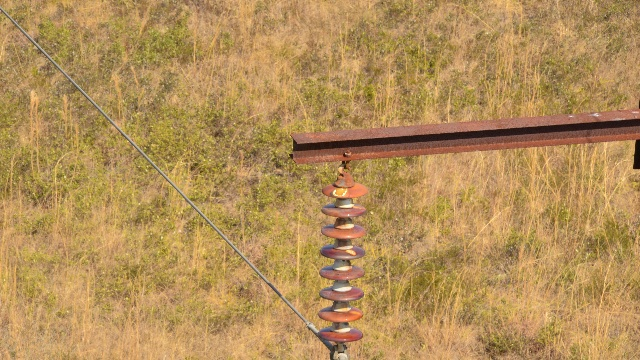insulator_unspecified: (318, 182, 369, 344)
pollution_flashover_local: (331, 186, 348, 197), (352, 203, 367, 213), (349, 308, 361, 316), (347, 249, 356, 256)
